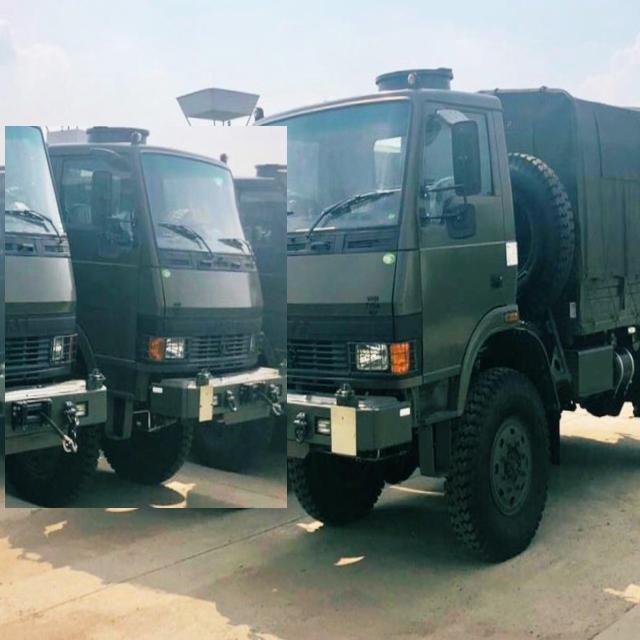truck: (186, 68, 640, 560), (5, 126, 287, 508)
